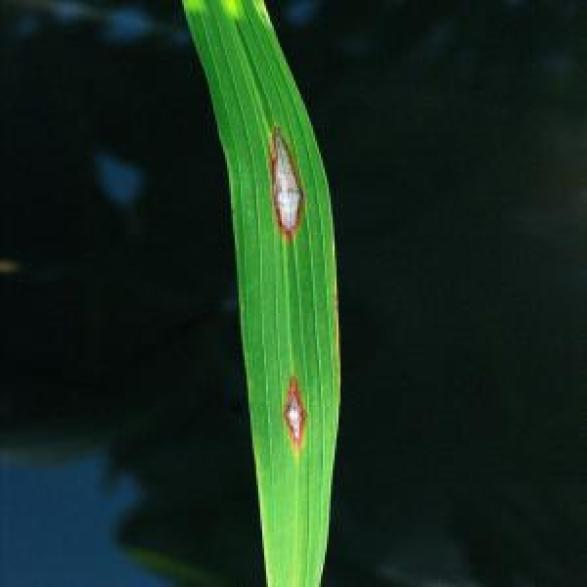Leaf_smut: (264, 108, 339, 260), (262, 342, 325, 456)
